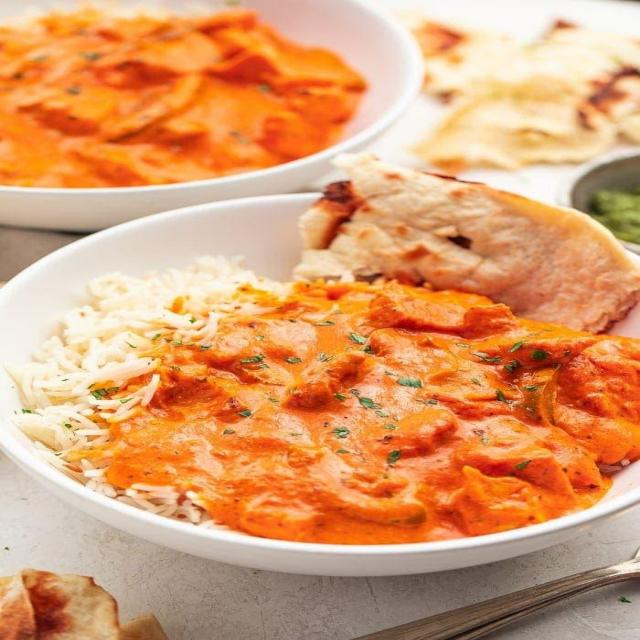chicken: (177, 267, 628, 544), (34, 28, 350, 200)
